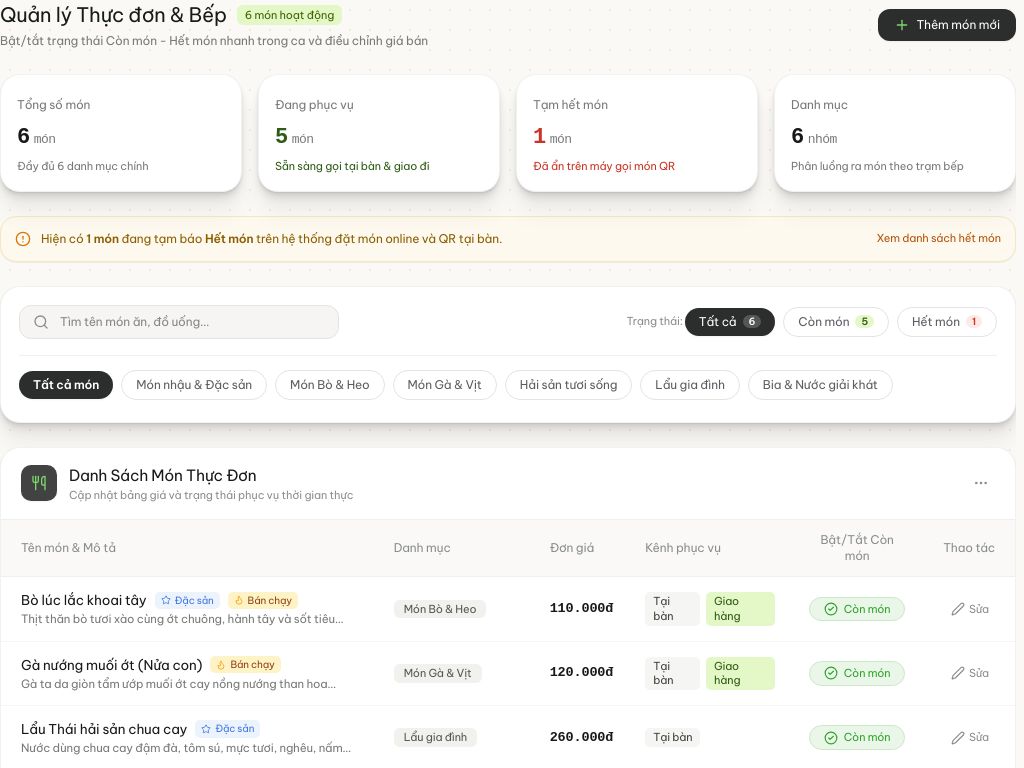
AdminMenuPage Component (Elera Redesign) › toggles item availability and shows notification toast
// Find the toggle button for the first item
Click the button titled "Bấm để chuyển trạng thái Còn/Hết món nhanh" in the row of "Bò lúc lắc khoai tây".
click(857, 609)  # box [809, 597, 906, 621]
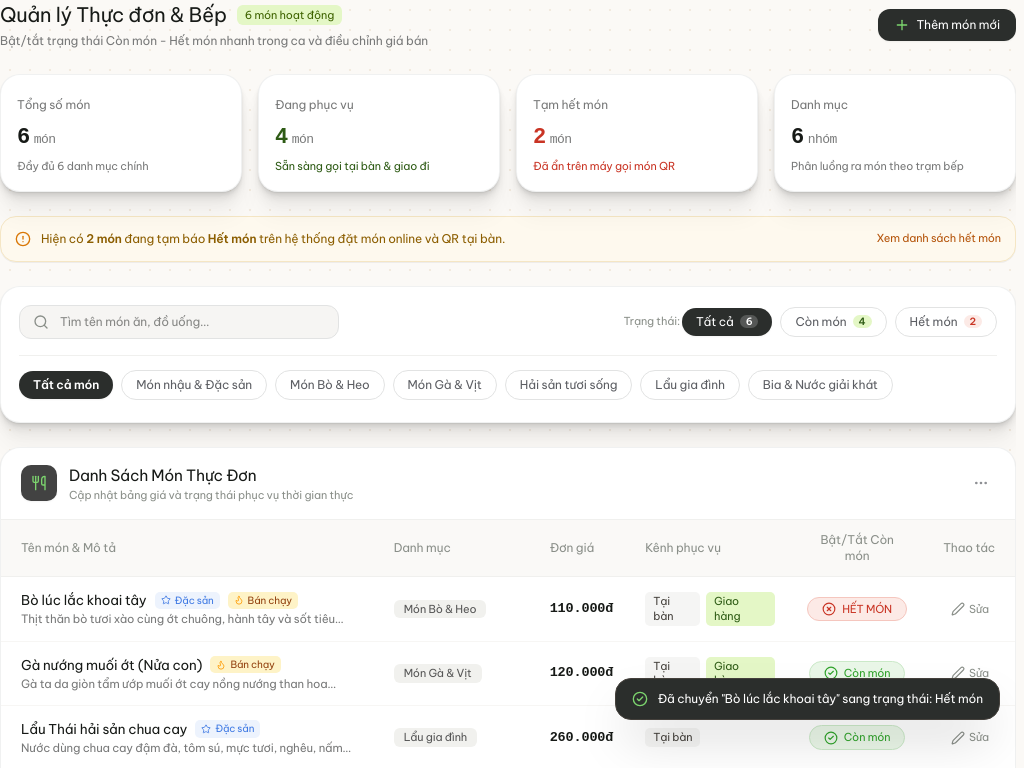
Expected: the text "Đã chuyển \"Bò lúc lắc khoai tây\" sang trạng thái: Hết món" is shown, [658, 691, 983, 707]
